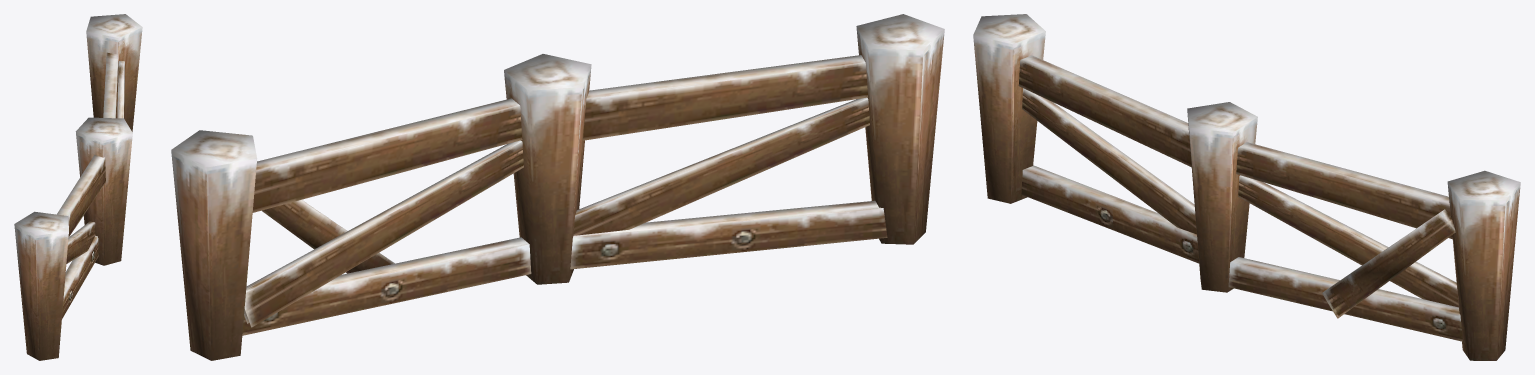
The model's file is SM_Enclosure_15.fbx.
3 views of the same model, side by side, from view 1: azimuth 30°, elevation 25°; view 2: azimuth 150°, elevation 25°; view 3: azimuth 270°, elevation 25° (orthographic). The views are drawn at different scales.
Visible parts, largest first — view 1: SM_Enclosure_15; view 2: SM_Enclosure_15; view 3: SM_Enclosure_15.
Boxes of the visible parts, x1,y1,x2,y2 form: SM_Enclosure_15: (14,14,142,360); SM_Enclosure_15: (171,14,944,360); SM_Enclosure_15: (973,14,1520,360).
Bounding box in the file's own units: 2.81 × 1.17 × 3.49.
